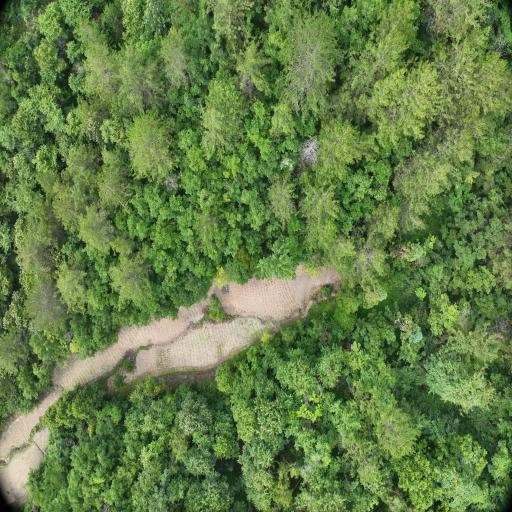dead-tree: (304, 139, 316, 162)
